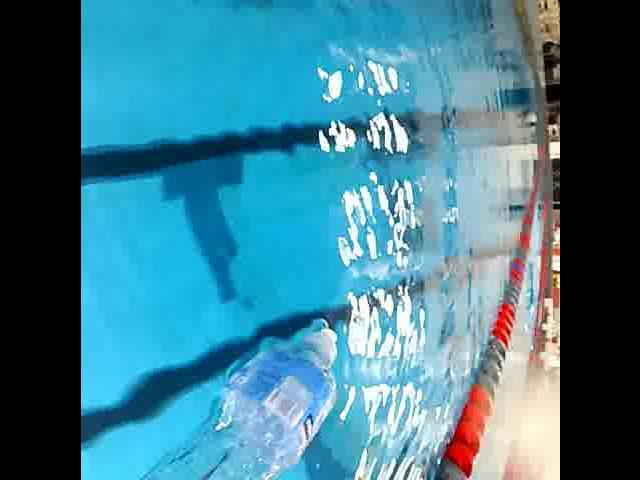Bottle: (80, 308, 349, 480)
